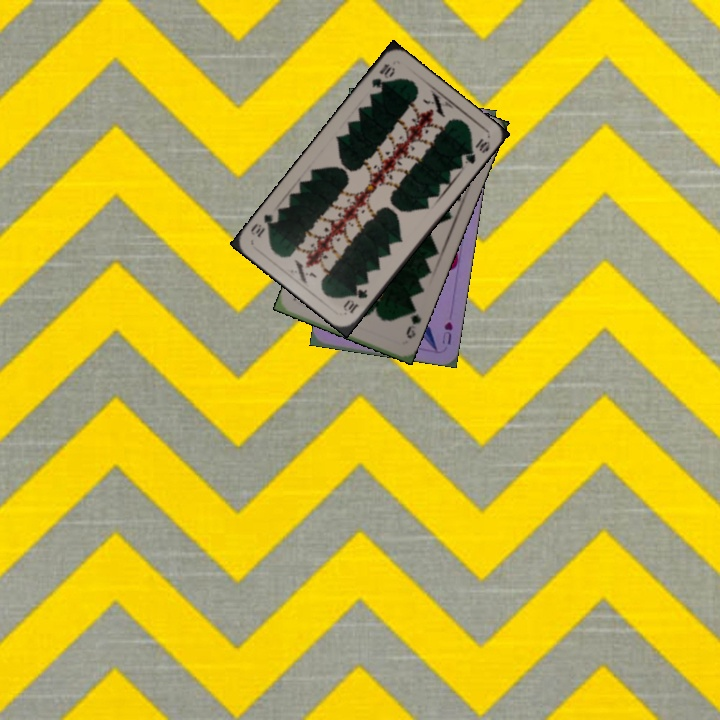G10: (367, 60, 398, 92), (339, 285, 370, 316)
G9: (402, 304, 424, 341)
HU: (438, 318, 455, 347)
